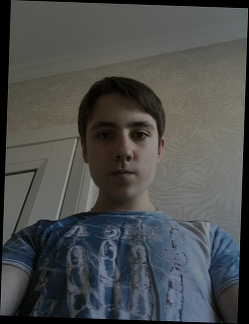without_mask: (85, 115, 158, 202)
